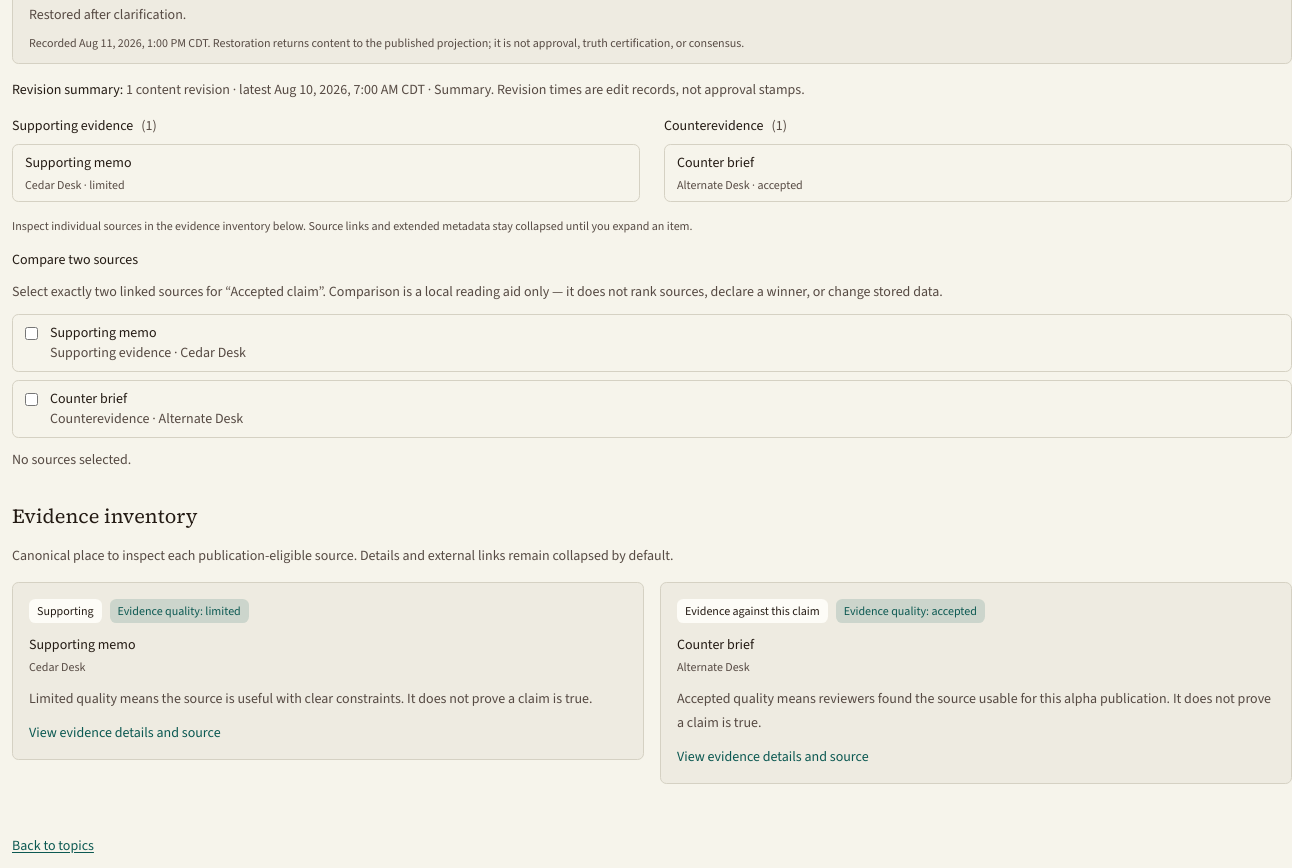
GatedPublicTopicView › reveals source link and conflict disclosure after intentional expansion
(page scrolled)
Click the text "View evidence details and source" below "Evidence quality: limited": point(125, 732) x1=29 y1=723 x2=221 y2=742
(page scrolled)
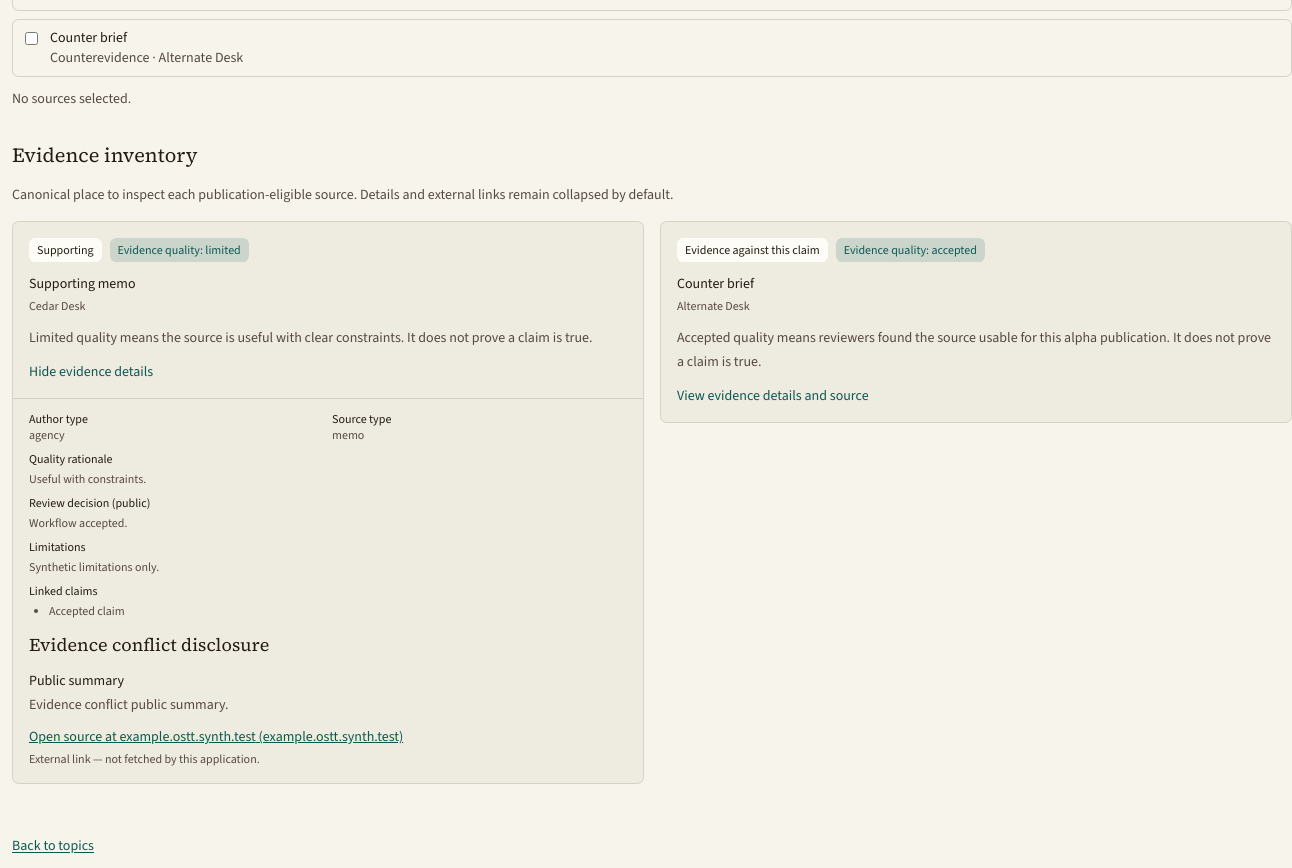
Expected: the 1st element with test id "evidence-disclosure-details" is shown, x1=13 y1=222 x2=643 y2=783
Now the heading "Evidence conflict disclosure" is shown, box x1=29 y1=632 x2=269 y2=657
Now the text "Evidence conflict public summary." is shown, box x1=29 y1=695 x2=228 y2=714
